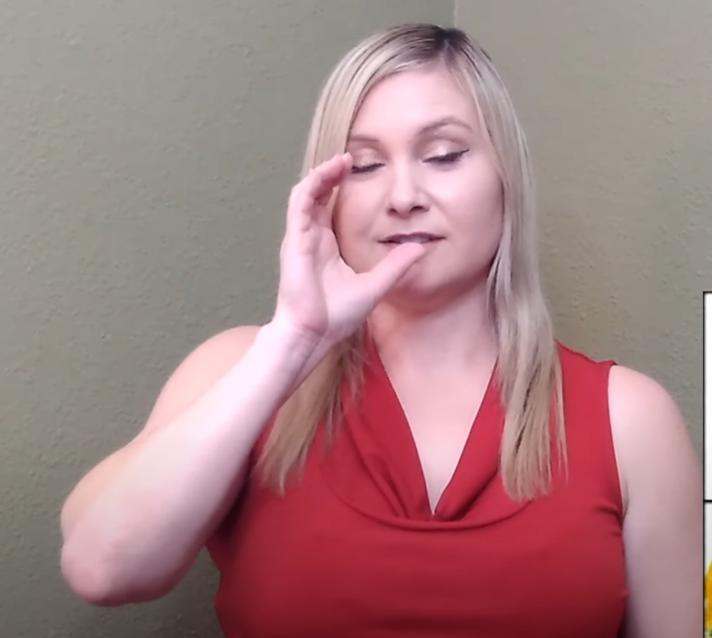drink: (272, 150, 428, 358)
